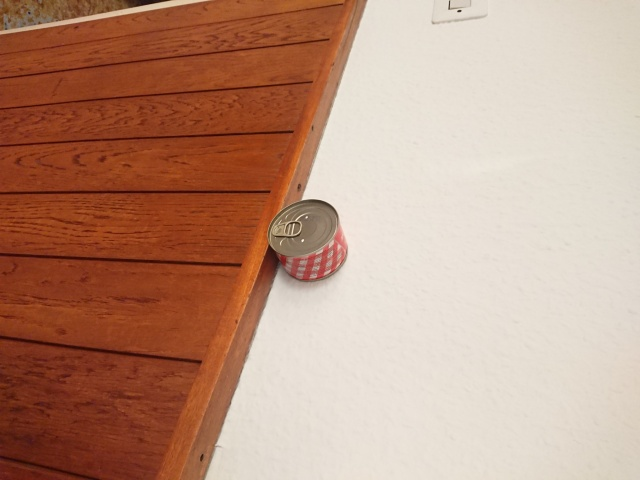Podravka Luncheon Meat 150g: (264, 196, 350, 284)
